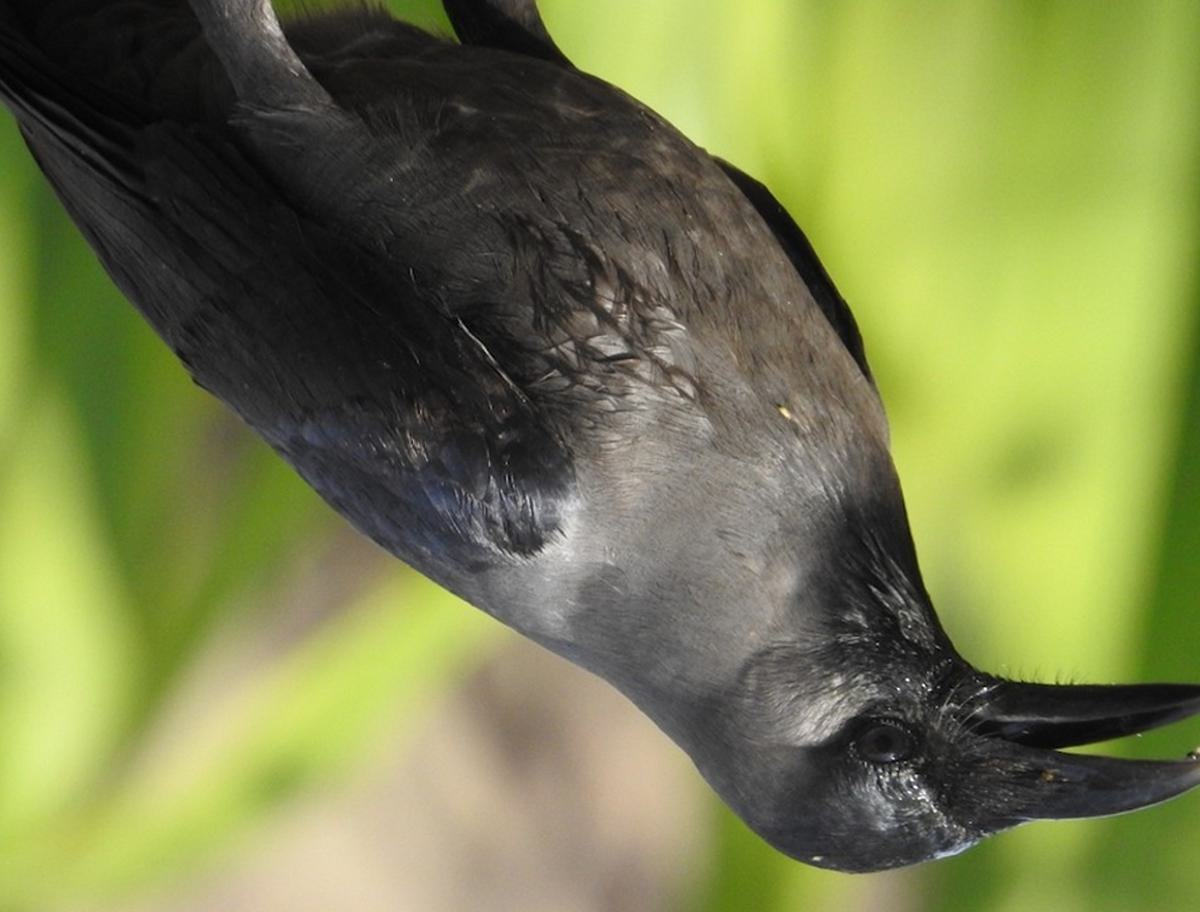crow: (1, 1, 1195, 881)
